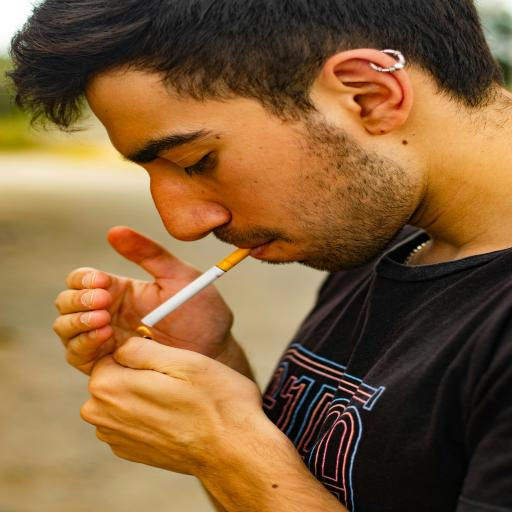terdeteksi merokok: (68, 184, 270, 362)
